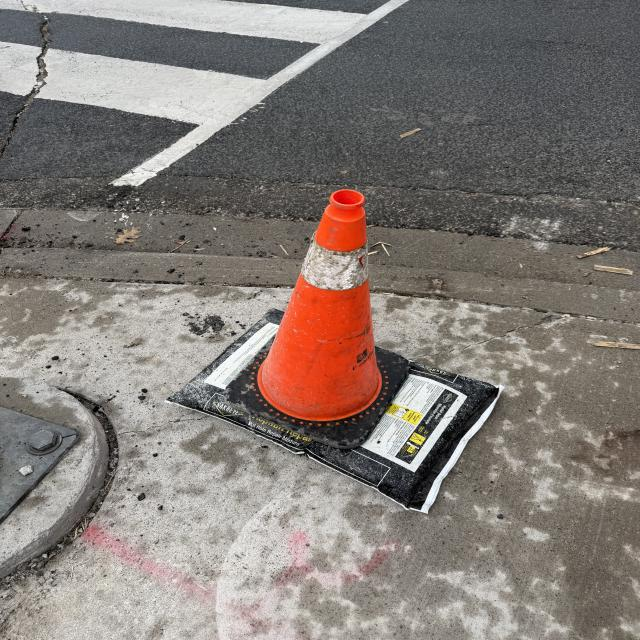Traffic Cone: (247, 187, 398, 431)
